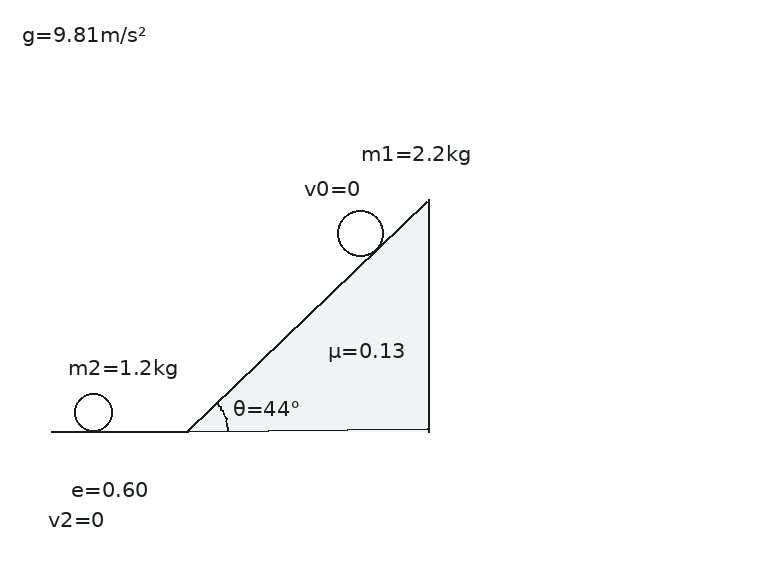ball: (335, 208, 385, 258), (72, 391, 114, 433)
ramp: (186, 198, 430, 433)
